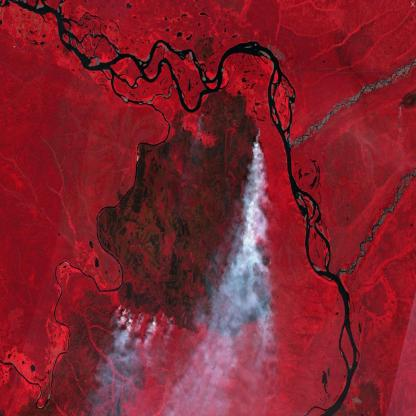fire: (239, 116, 275, 329), (115, 303, 175, 332)
